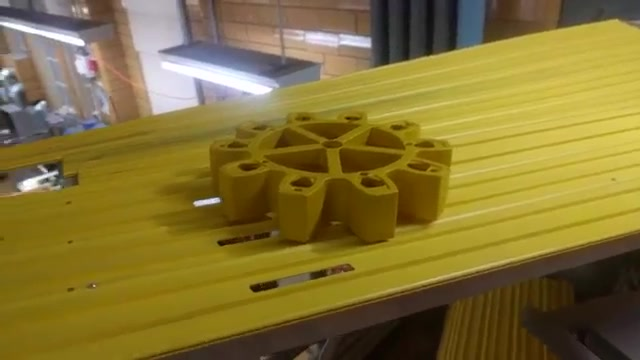gear: (204, 112, 457, 242)
